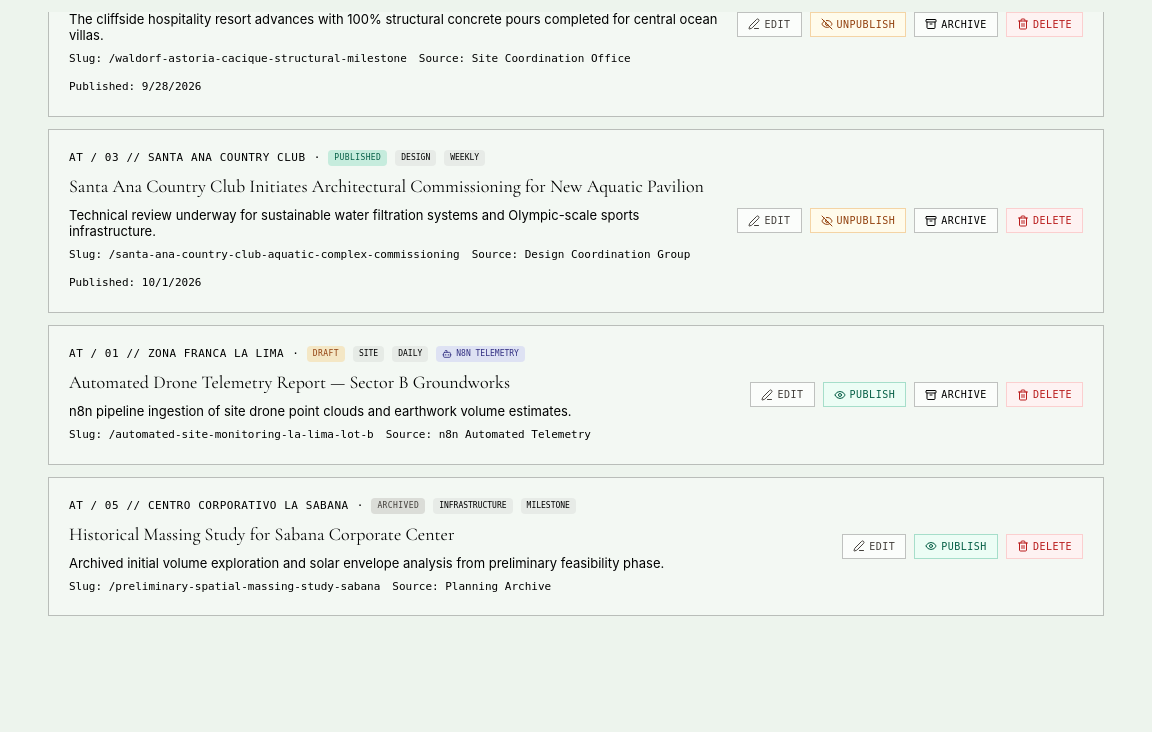
Test case: AdminNewsPage UI and Management › allows publishing a draft article and unpublishing a published article
The width and height of the screenshot is (1152, 732).
(page scrolled)
// Find the drone draft and publish it
Click the button with aria-label "Publish Automated Drone Telemetry Report" at (864, 395), box [823,382,906,407]
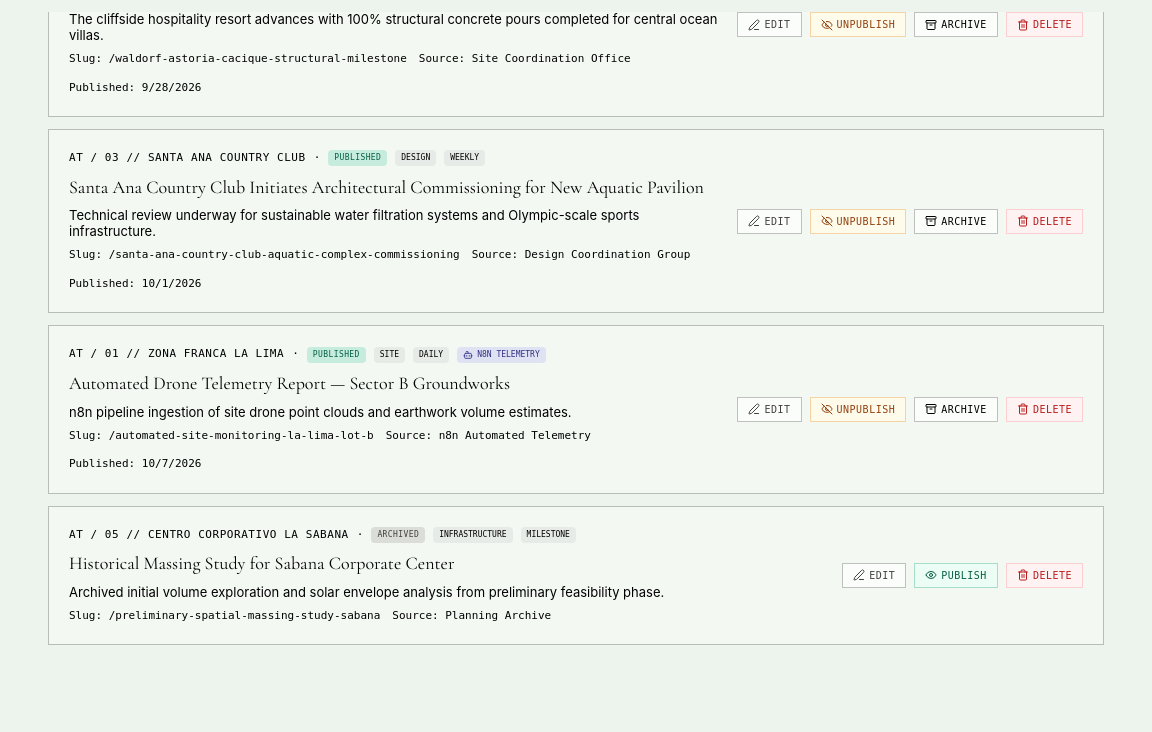
Expected: the button with aria-label "Unpublish Automated Drone Telemetry Report" is shown, [810,397,906,422]
